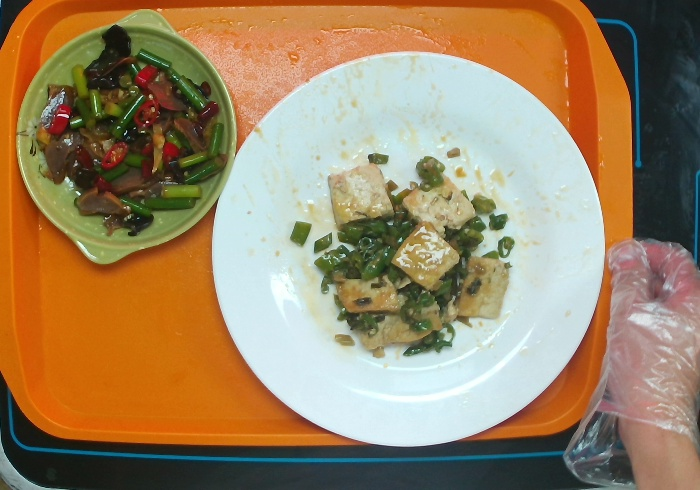NLDX-Da_Yuan_Pan: (209, 47, 610, 449)
NLDX-Lv_Hua_Shuang_Er_Die: (14, 3, 240, 266)
